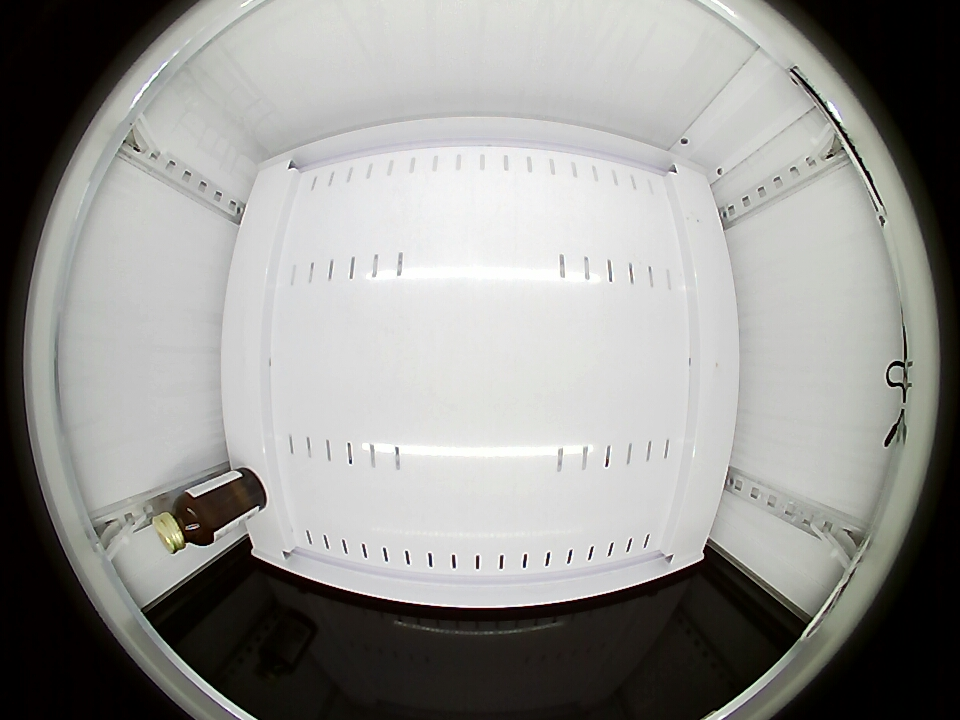libaojian: (153, 493, 214, 554)
